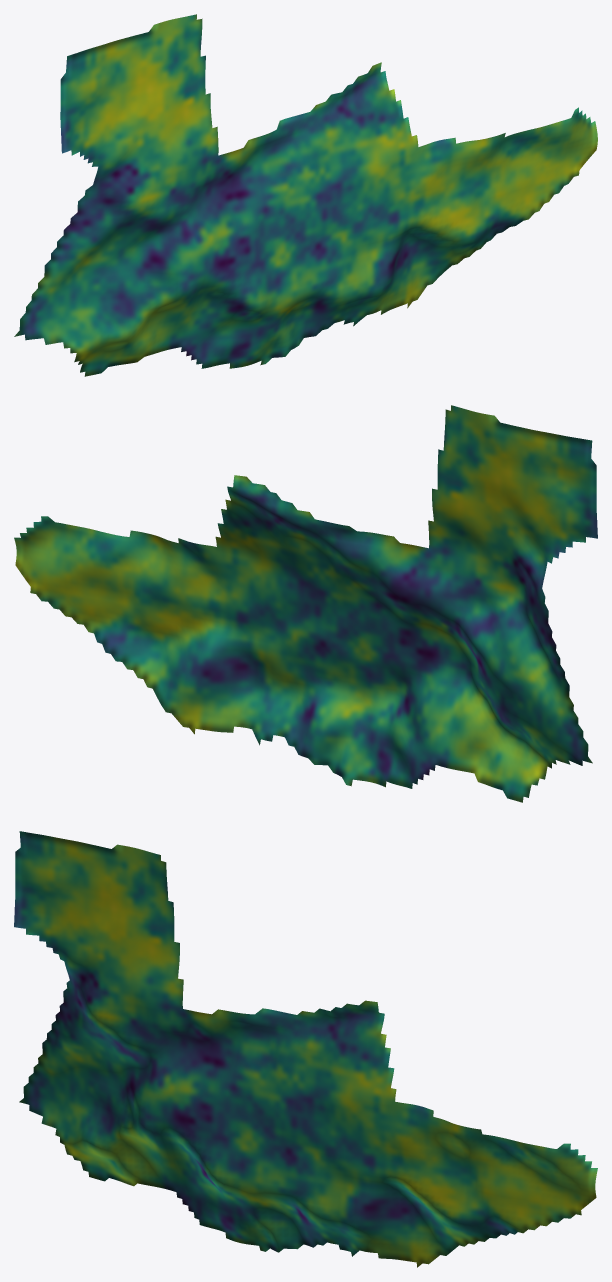
File: tirumala_terrain_corr.glb
3 views of the same model, one above another, from view 1: azimuth 30°, elevation 25°; view 2: azimuth 150°, elevation 25°; view 3: azimuth 330°, elevation 25° (orthographic).
Visible parts, largest first — view 1: Tirumala_Terrain_Mesh; view 2: Tirumala_Terrain_Mesh; view 3: Tirumala_Terrain_Mesh.
Boxes of the visible parts, <box> form: Tirumala_Terrain_Mesh: <box>14,14,597,376</box>; Tirumala_Terrain_Mesh: <box>14,405,597,802</box>; Tirumala_Terrain_Mesh: <box>14,831,597,1267</box>.
Size of the model in its own units: 8560 by 5440 by 719.
1 material, 1 textured.
